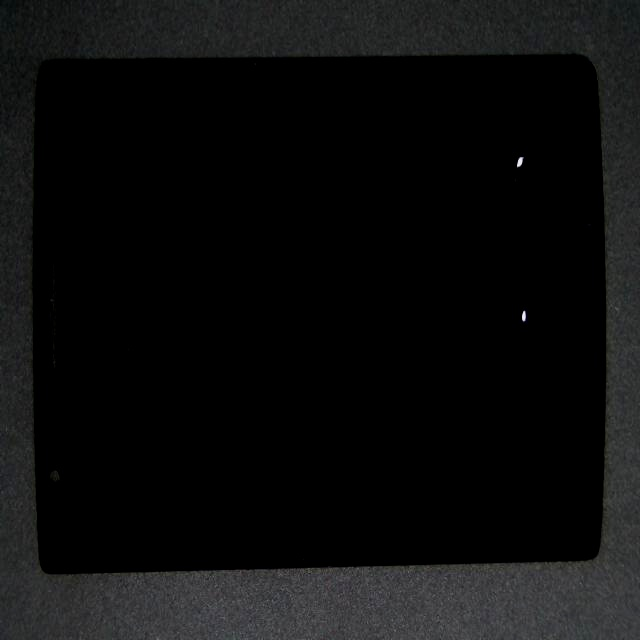stain: (270, 129, 640, 440), (272, 68, 640, 216)
